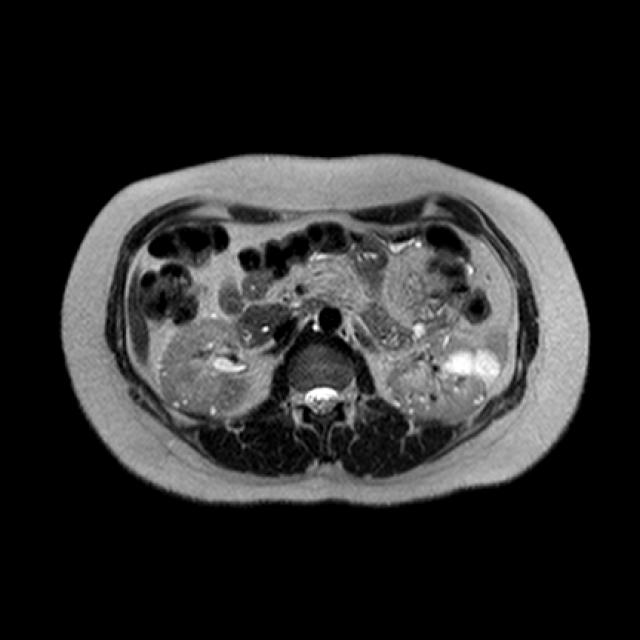sag: (156, 312, 249, 418)
sol: (382, 330, 504, 423)
